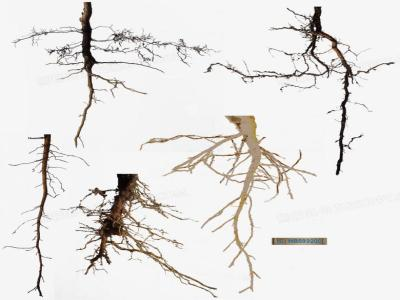Root: (308, 7, 355, 174), (225, 115, 261, 292), (90, 174, 138, 263), (75, 2, 96, 146), (33, 134, 50, 296)
